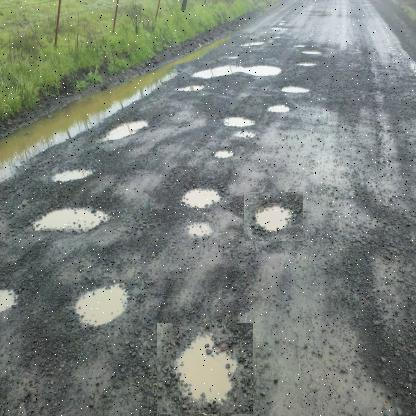pothole_water: (156, 323, 253, 415), (17, 196, 125, 258), (58, 274, 138, 339), (243, 192, 303, 242)
